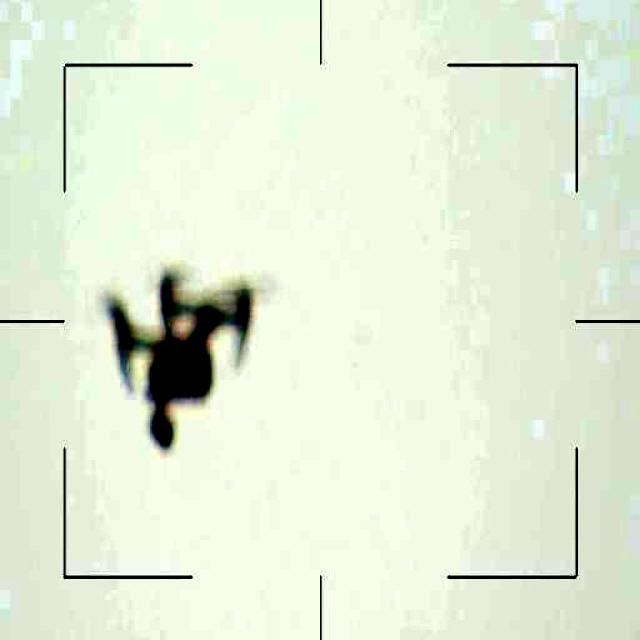bird: (98, 265, 269, 454)
